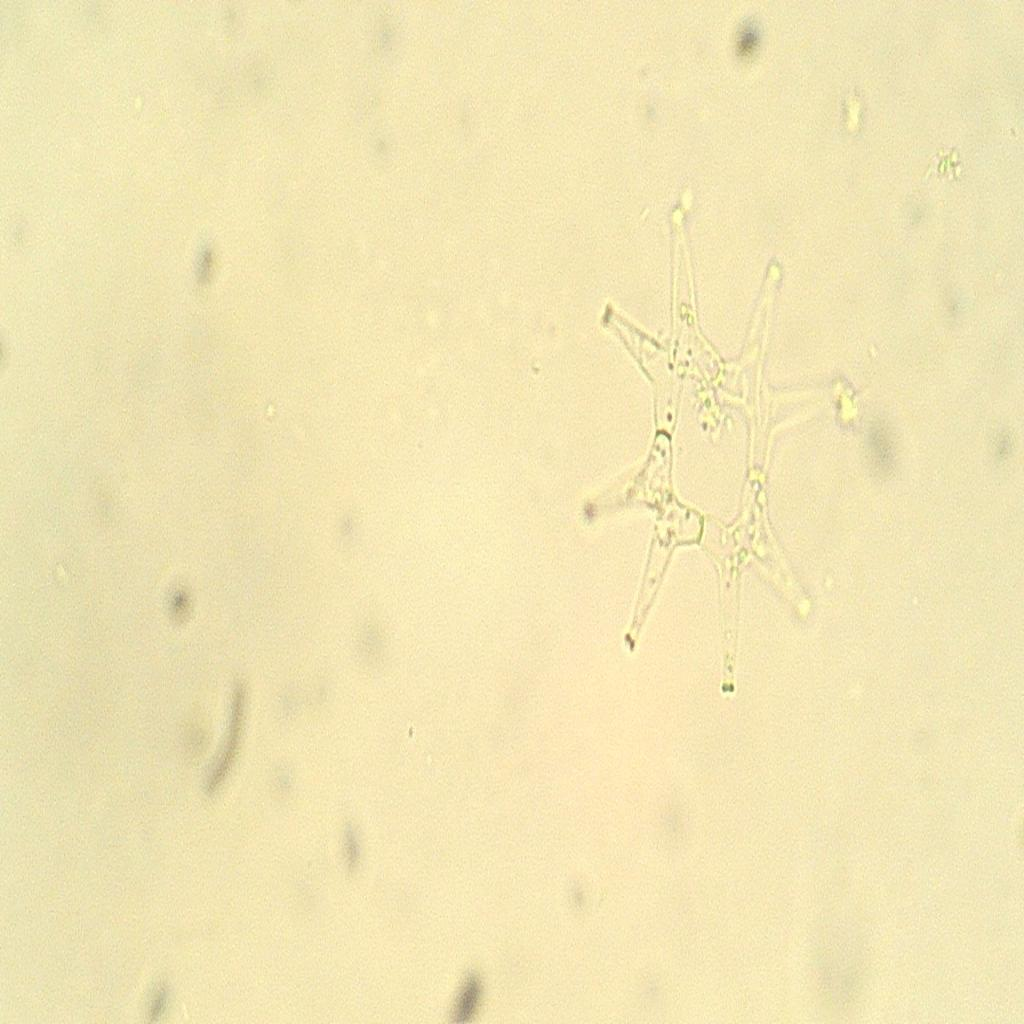Pediastrum_1F0: (559, 184, 859, 733)
